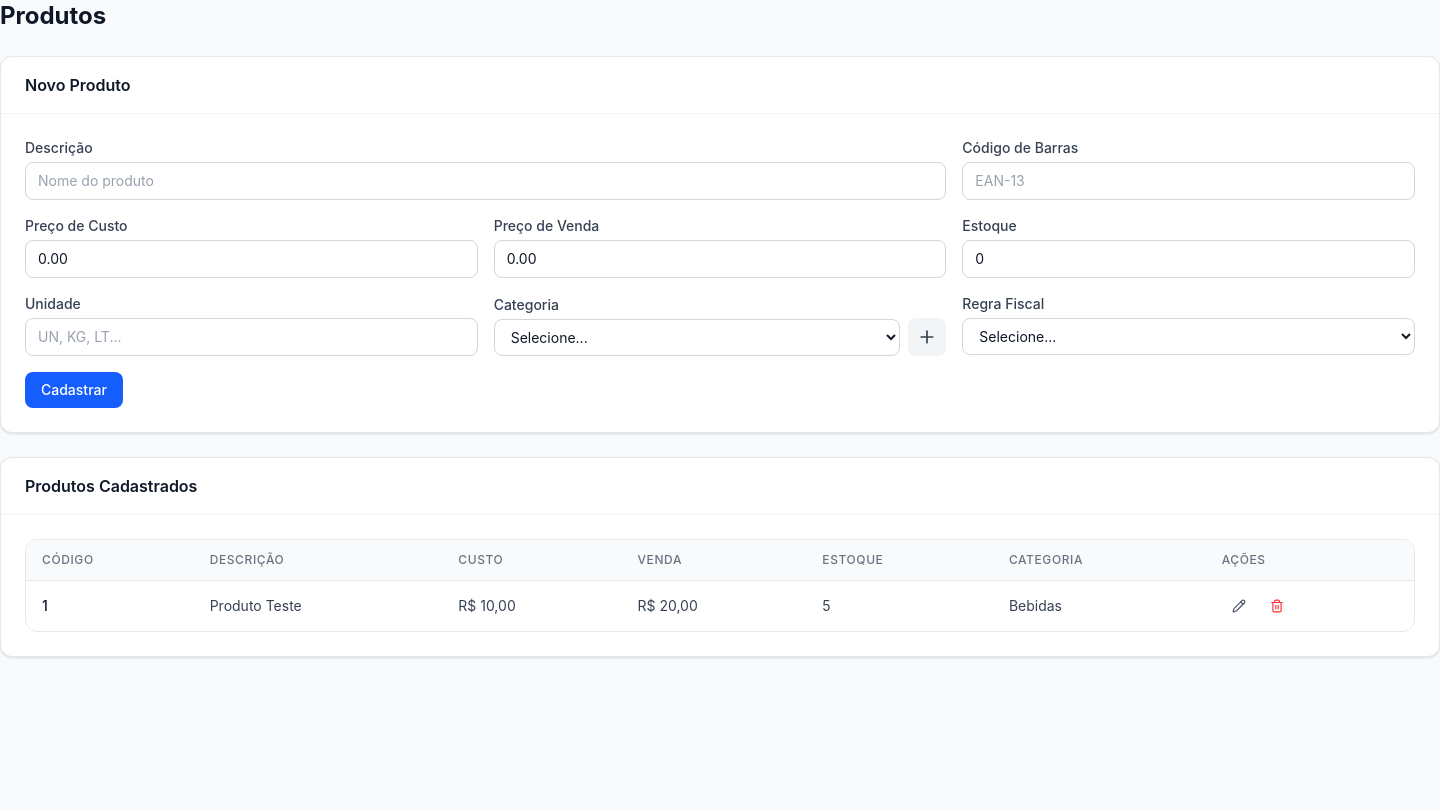
ProdutosPage › should close the confirm modal when cancelling delete
Click the button titled "Excluir" at (1277,606), box [1260,593,1294,619]
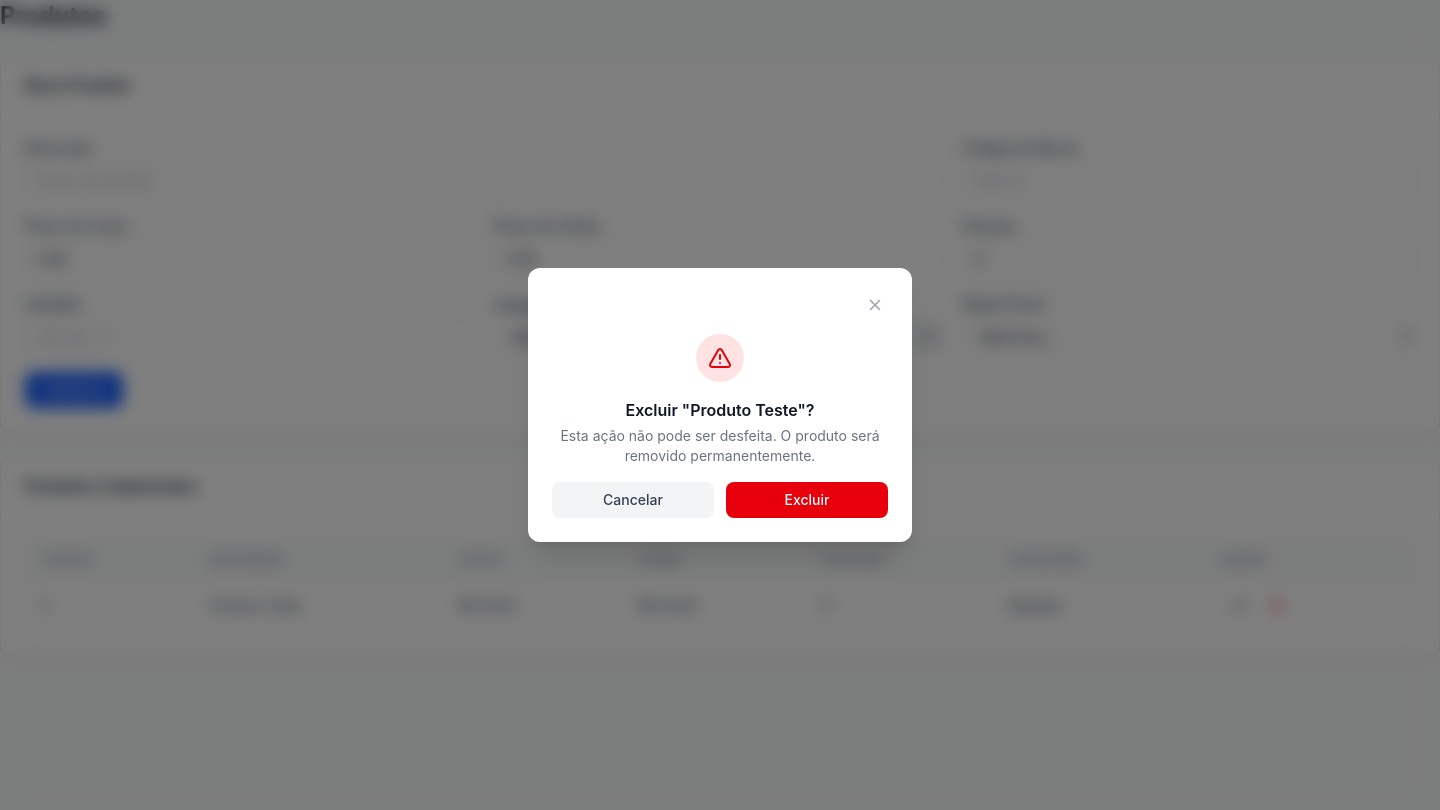
Click the button "Cancelar" at (633,500), box [552,482,714,518]
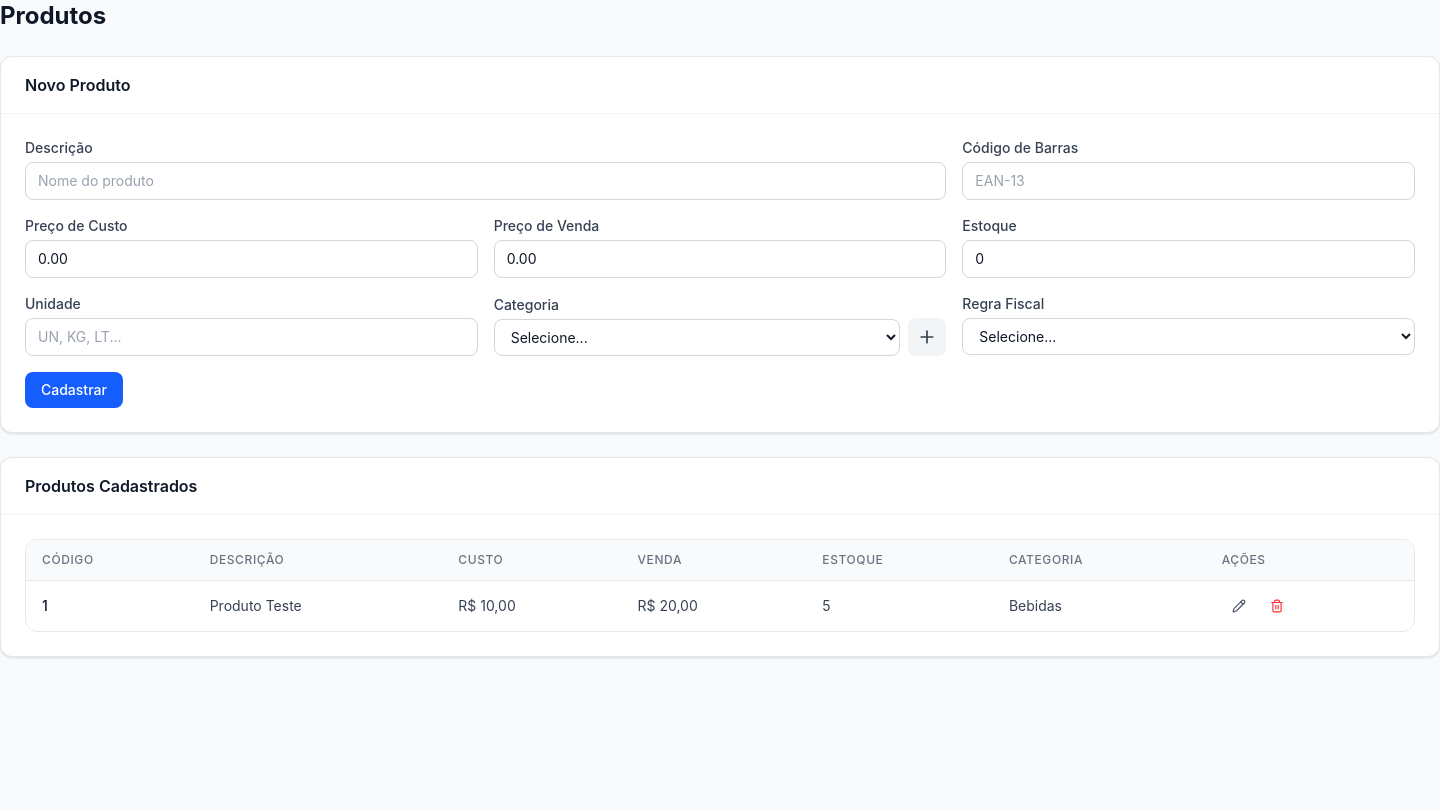
Check: the text "não pode ser desfeita" is gone
